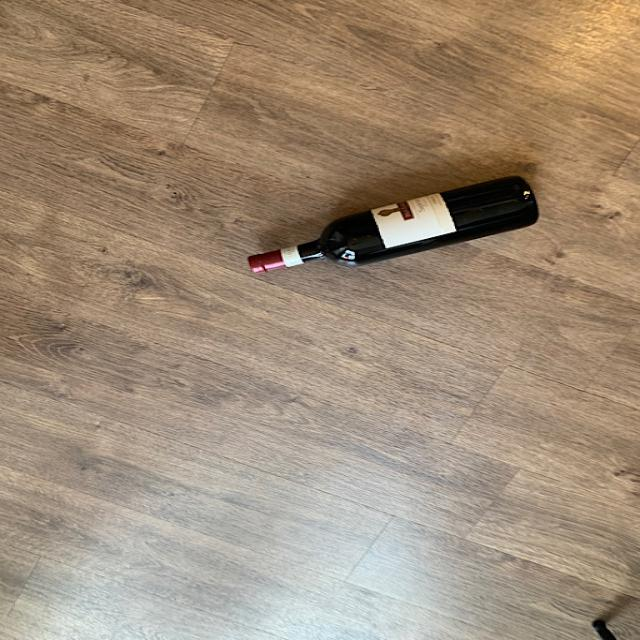litter: (246, 173, 542, 281)
